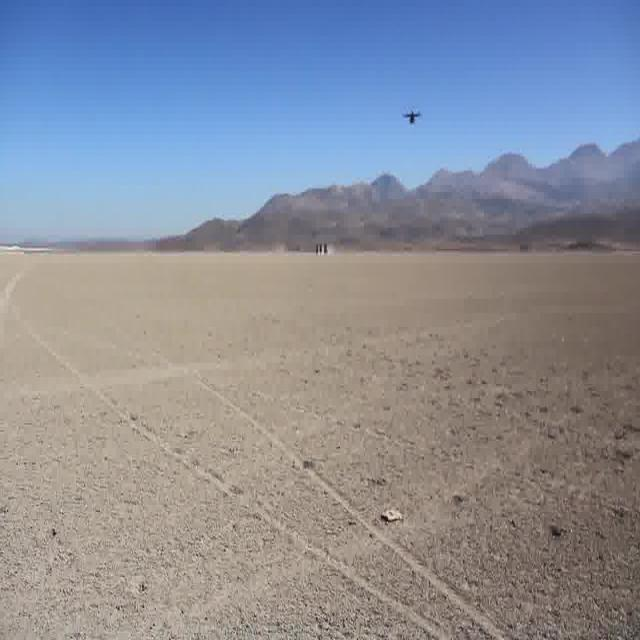Drone_FW: (398, 98, 426, 132)
